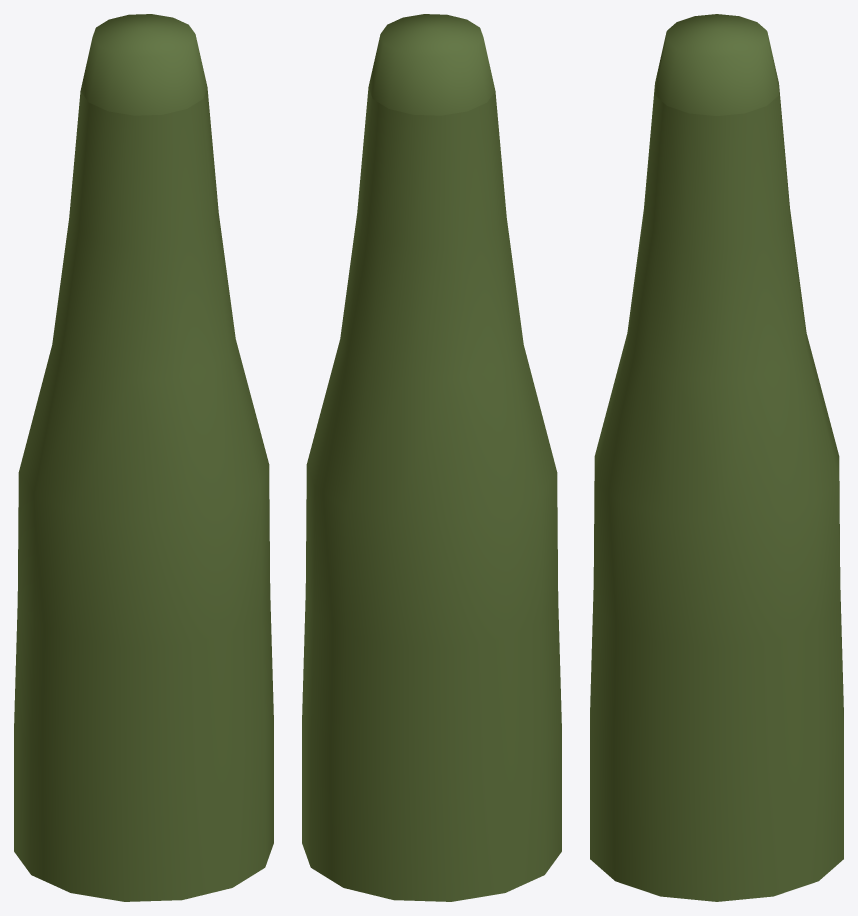
Rendered from bottle_2.fbx.
The picture shows the model from 3 angles, left to right: view 1: azimuth 30°, elevation 25°; view 2: azimuth 150°, elevation 25°; view 3: azimuth 270°, elevation 25°; orthographic projection.
Parts seen in each view (by area): view 1: Cylinder002; view 2: Cylinder002; view 3: Cylinder002.
Boxes of the visible parts, <box> form: Cylinder002: <box>14,14,273,901</box>; Cylinder002: <box>302,14,561,901</box>; Cylinder002: <box>590,14,843,901</box>.
Bounding box in the file's own units: 1.06 × 3.66 × 1.03.
